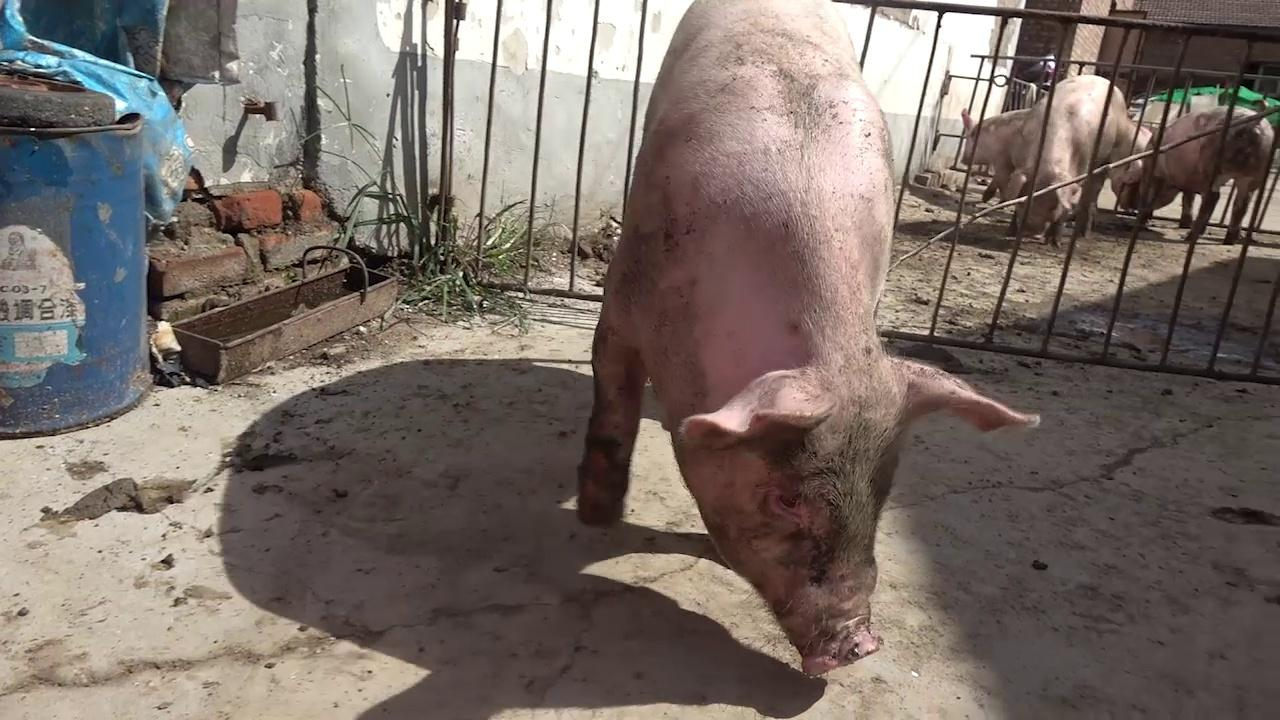Face: (657, 342, 1056, 693)
